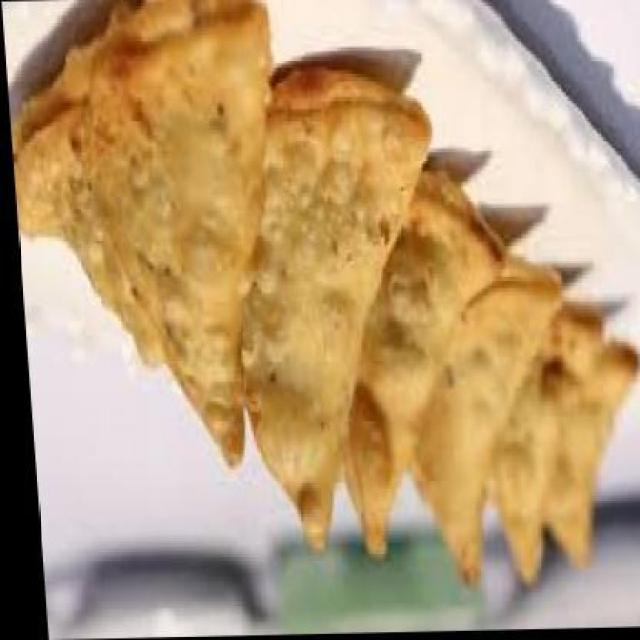samosa: (0, 0, 294, 472), (218, 68, 452, 550), (315, 161, 517, 557), (387, 254, 576, 591), (463, 303, 612, 583), (521, 335, 640, 570)
